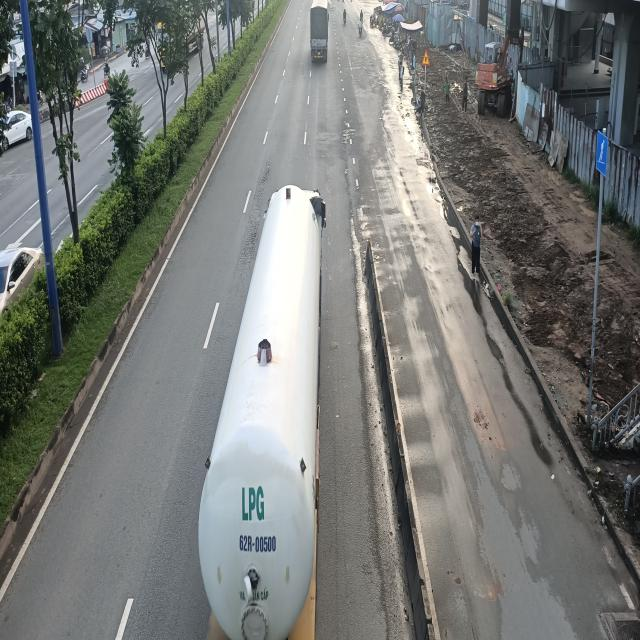container: (188, 191, 326, 638)
truck: (310, 1, 329, 65)
